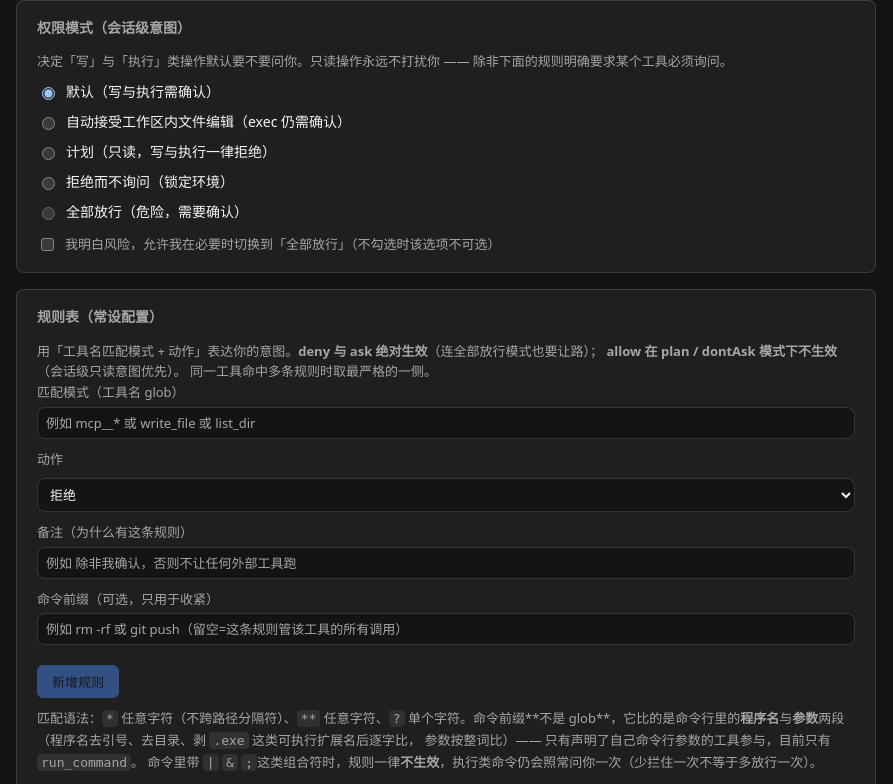
权限页 · 命令前缀 › 动作选「自动放行」时前缀那一格不出现，并说清为什么
Step 1. Type "run_command" into the field labelled "匹配模式（工具名 glob）" → [446, 423], box left=37, top=407, right=855, bottom=439
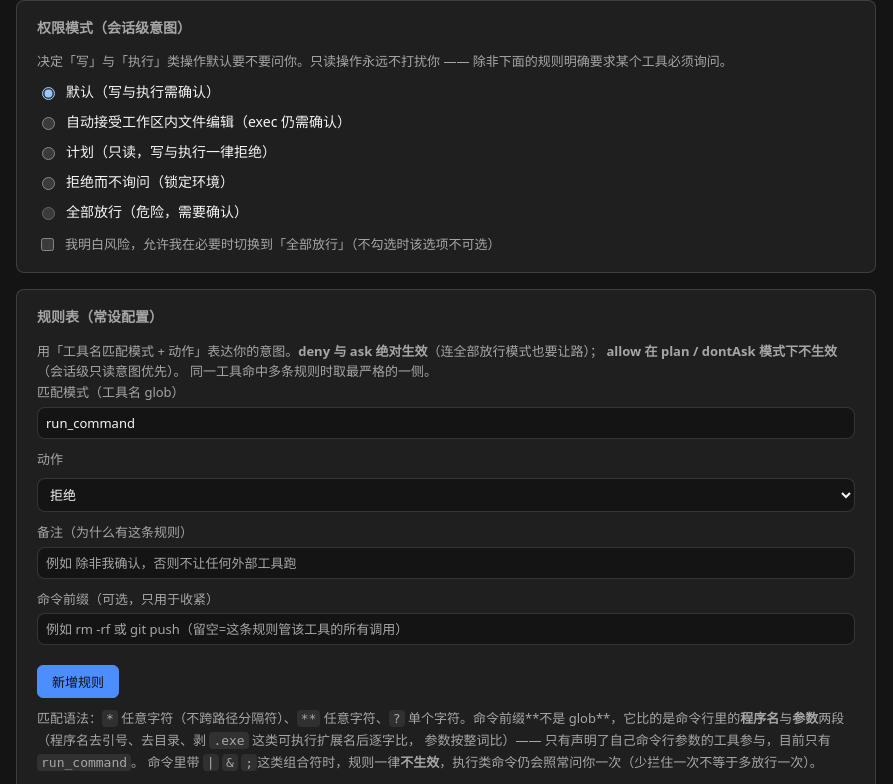
Step 2. Select "自动放行" in the dropdown labelled "动作" → [446, 495], box left=37, top=478, right=855, bottom=512
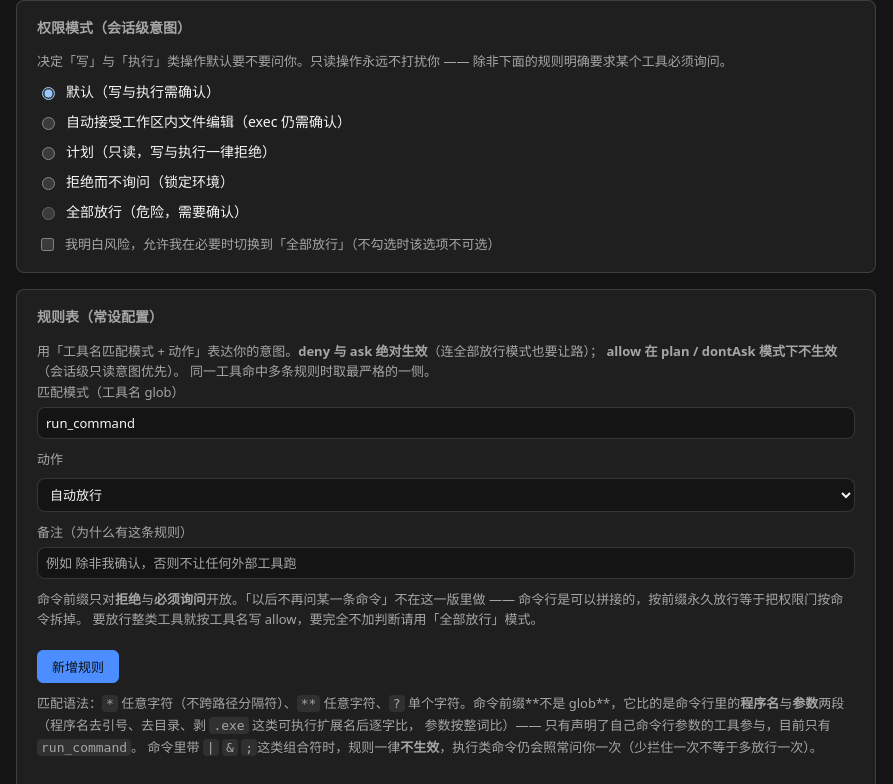
Result: the text "以后不再问" is shown at left=37, top=590, right=843, bottom=628
